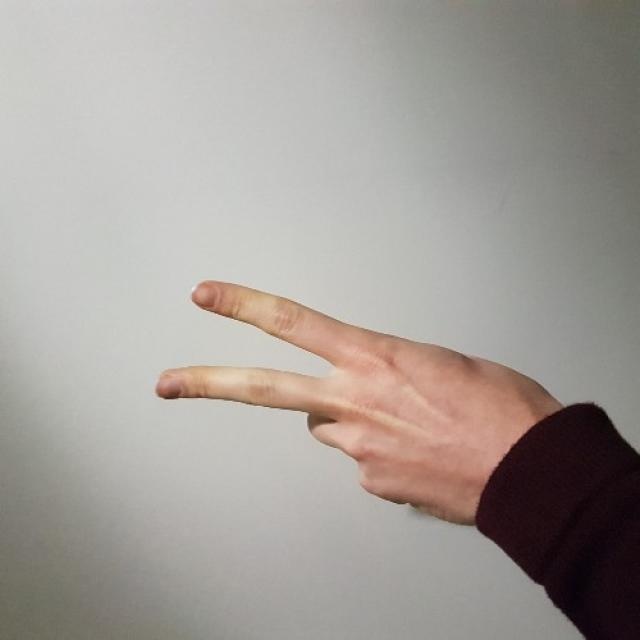scissors: (157, 280, 494, 480)
